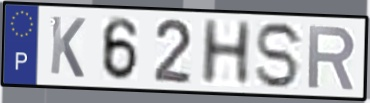2: (153, 16, 195, 86)
6: (100, 15, 143, 83)
H: (198, 17, 255, 87)
K: (48, 13, 88, 81)
R: (306, 23, 358, 92)
S: (253, 20, 306, 91)
